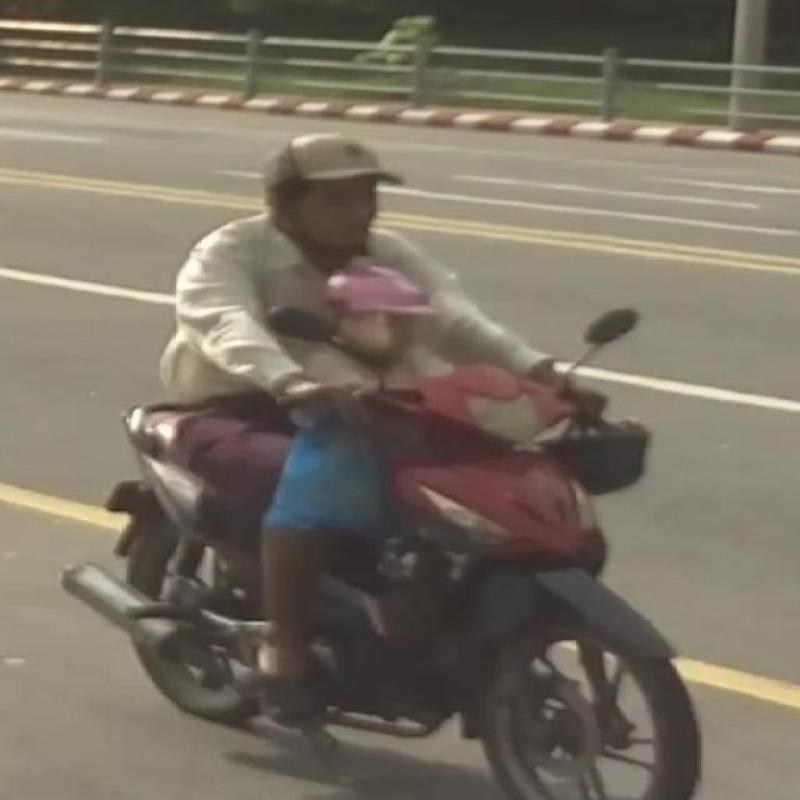nohelmet: (248, 96, 422, 260)
